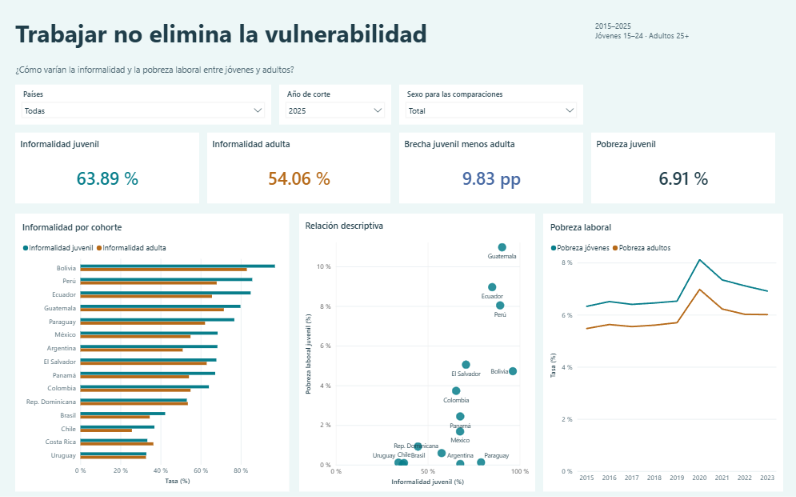

Layout of this report page (visuals, bound fields, positions):
{"tool":"powerbi","page":{"name":"04 Vulnerabilidad","canvas":[1600,1000],"ordinal":3},"visuals":[{"type":"textbox","box":[31.7,38.3,1536.7,71.7],"z":5000},{"type":"textbox","box":[32,132,1536,29],"z":6000},{"type":"slicer","fields":{"Values":["Paises.País"]},"box":[32,174,512,80],"z":7000},{"type":"slicer","fields":{"Values":["Corte.Año"]},"box":[560,174,224,80],"z":8000},{"type":"slicer","fields":{"Values":["Sexo selector.Etiqueta"]},"box":[800,174,368,80],"z":9000},{"type":"textbox","box":[1191.7,46.7,376,55],"z":10000},{"type":"card","title":"Informalidad juvenil","fields":{"Values":["Observaciones.Informalidad juvenil"]},"box":[31.7,270,368.3,141.7],"z":12000},{"type":"card","title":"Informalidad adulta","fields":{"Values":["Observaciones.Informalidad adulta"]},"box":[416.7,270,366.7,141.7],"z":13000},{"type":"card","title":"Brecha juvenil menos adulta","fields":{"Values":["Observaciones.Brecha informalidad"]},"box":[800,270,368.3,141.7],"z":14000},{"type":"card","title":"Pobreza juvenil","fields":{"Values":["Observaciones.Pobreza juvenil último año"]},"box":[1183.3,270,368.3,141.7],"z":15000},{"type":"clusteredBarChart","title":"Informalidad por cohorte","fields":{"Category":["Paises.País"],"Y":["Observaciones.Informalidad juvenil","Observaciones.Informalidad adulta"]},"box":[32,432,548,556],"z":16000},{"type":"scatterChart","title":"Relación descriptiva","fields":{"Category":["Paises.País"],"X":["Observaciones.Informalidad para dispersión"],"Y":["Observaciones.Pobreza para dispersión"]},"box":[600,432,472,556],"z":17000},{"type":"lineChart","title":"Pobreza laboral","fields":{"Category":["Anios.Año"],"Y":["Observaciones.Pobreza jóvenes","Observaciones.Pobreza adultos"]},"box":[1088,432,480,556],"z":18000}]}

Visuals, with their boxes in screenshot pixels (x1, y1, x2, y2), scaled from the page's 1600x1000 canvas onto the 796x497 screenshot:
textbox: BBox(16, 19, 780, 55)
textbox: BBox(16, 66, 780, 80)
slicer - Paises.País: BBox(16, 86, 271, 126)
slicer - Corte.Año: BBox(279, 86, 390, 126)
slicer - Sexo selector.Etiqueta: BBox(398, 86, 581, 126)
textbox: BBox(593, 23, 780, 51)
"Informalidad juvenil" card: BBox(16, 134, 199, 205)
"Informalidad adulta" card: BBox(207, 134, 390, 205)
"Brecha juvenil menos adulta" card: BBox(398, 134, 581, 205)
"Pobreza juvenil" card: BBox(589, 134, 772, 205)
"Informalidad por cohorte" clusteredBarChart: BBox(16, 215, 289, 491)
"Relación descriptiva" scatterChart: BBox(298, 215, 533, 491)
"Pobreza laboral" lineChart: BBox(541, 215, 780, 491)
